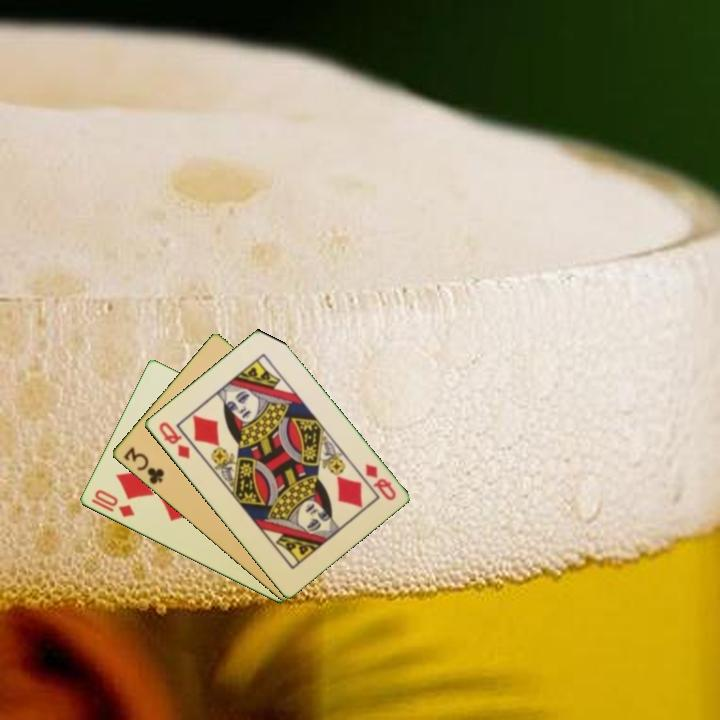10d: (88, 486, 138, 521)
3c: (120, 443, 167, 488)
Qd: (155, 418, 193, 462), (361, 460, 399, 504)
